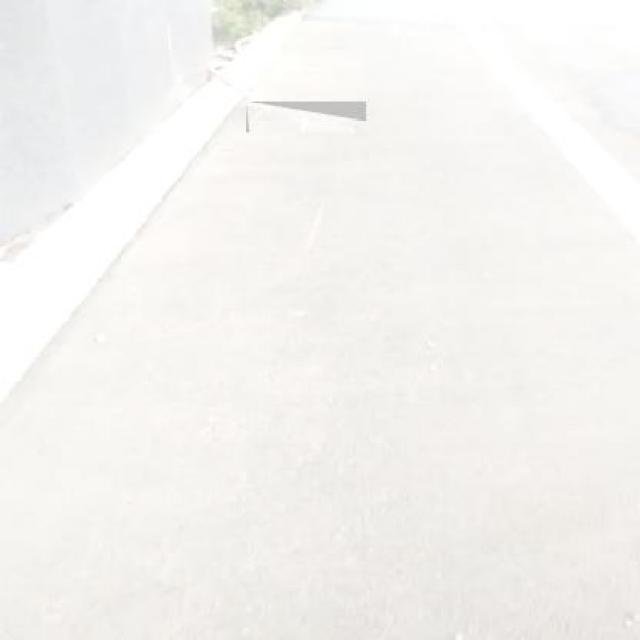Manhole: (246, 101, 366, 132)
